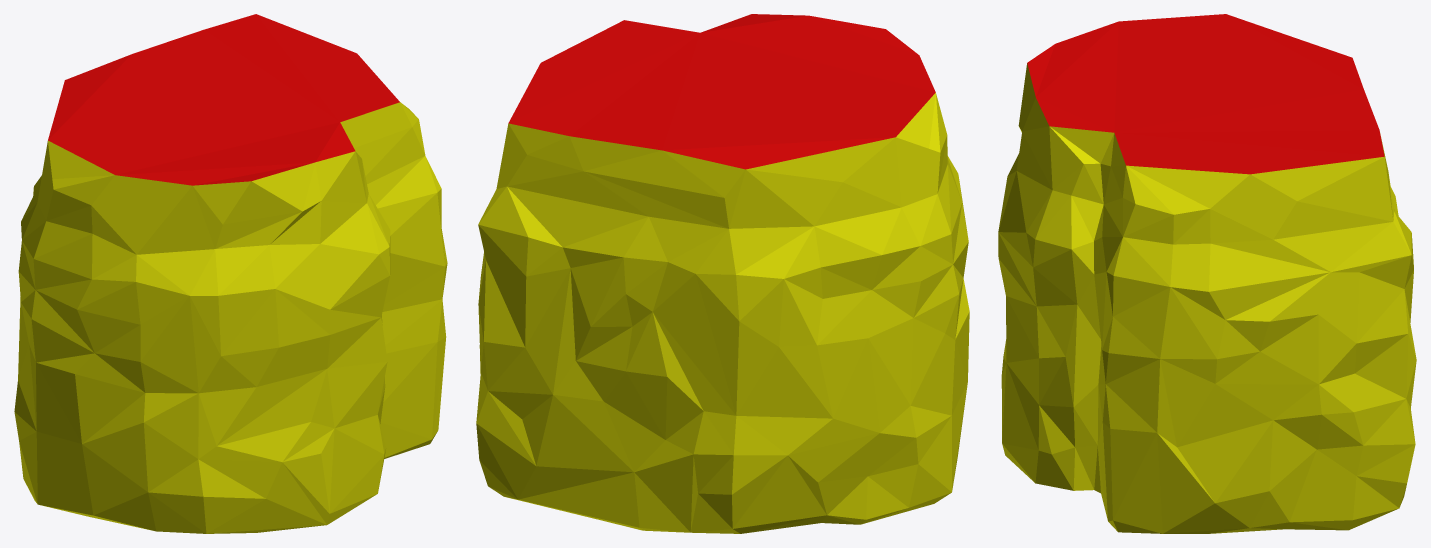
3 views of the same model, side by side, from view 1: azimuth 30°, elevation 25°; view 2: azimuth 150°, elevation 25°; view 3: azimuth 270°, elevation 25° (orthographic). The views are drawn at different scales.
Visible parts, largest first — view 1: polySurface5; view 2: polySurface5; view 3: polySurface5.
Part boxes in pixels (x1,y1,x2,y2): polySurface5: (14,14,447,533); polySurface5: (476,14,969,533); polySurface5: (998,14,1416,533).
Size of the model in its own units: 43.41 by 37.97 by 38.92.
